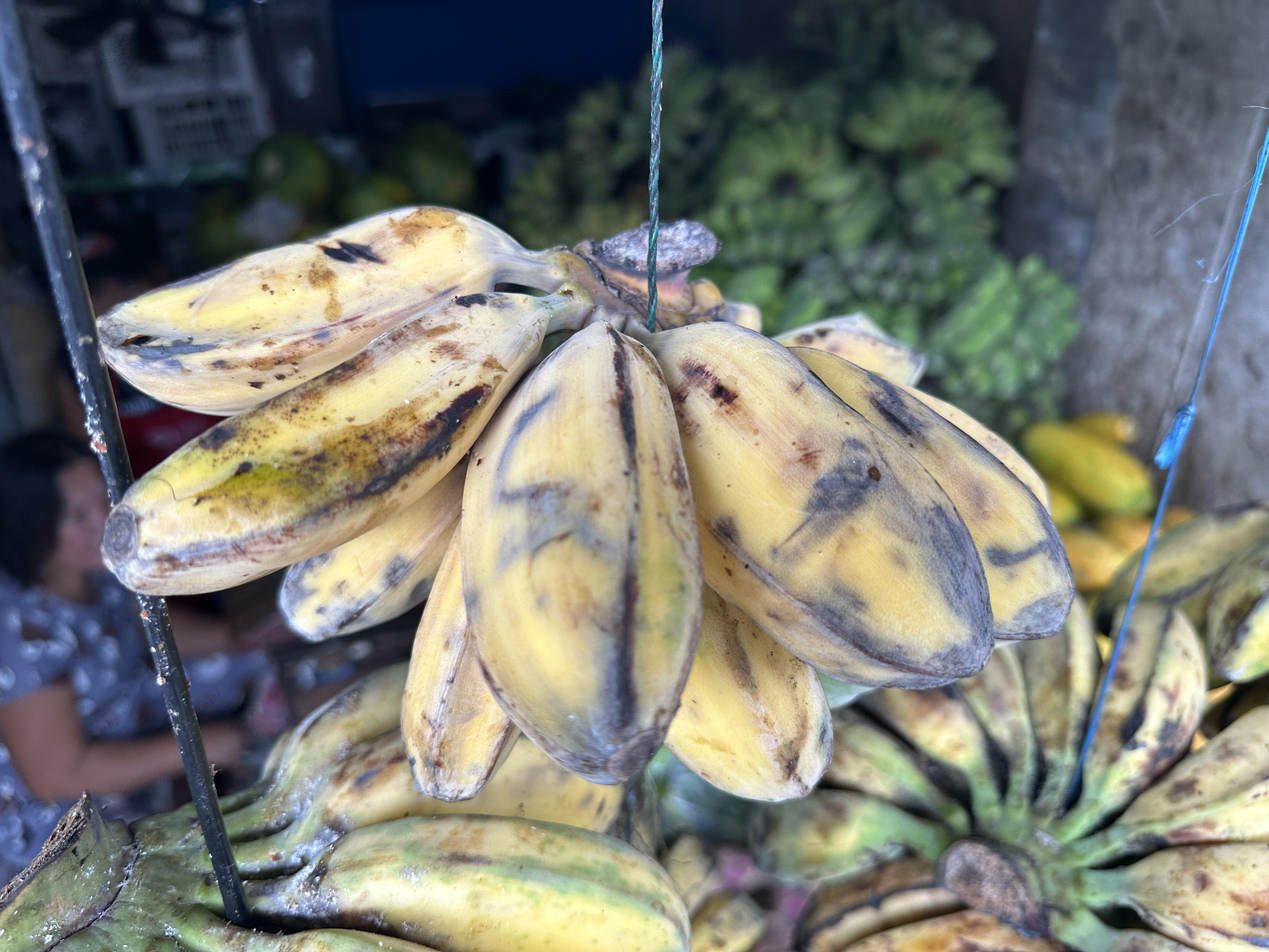ripe: (91, 200, 1080, 804)
underripe: (762, 600, 1269, 952), (275, 664, 689, 952)
